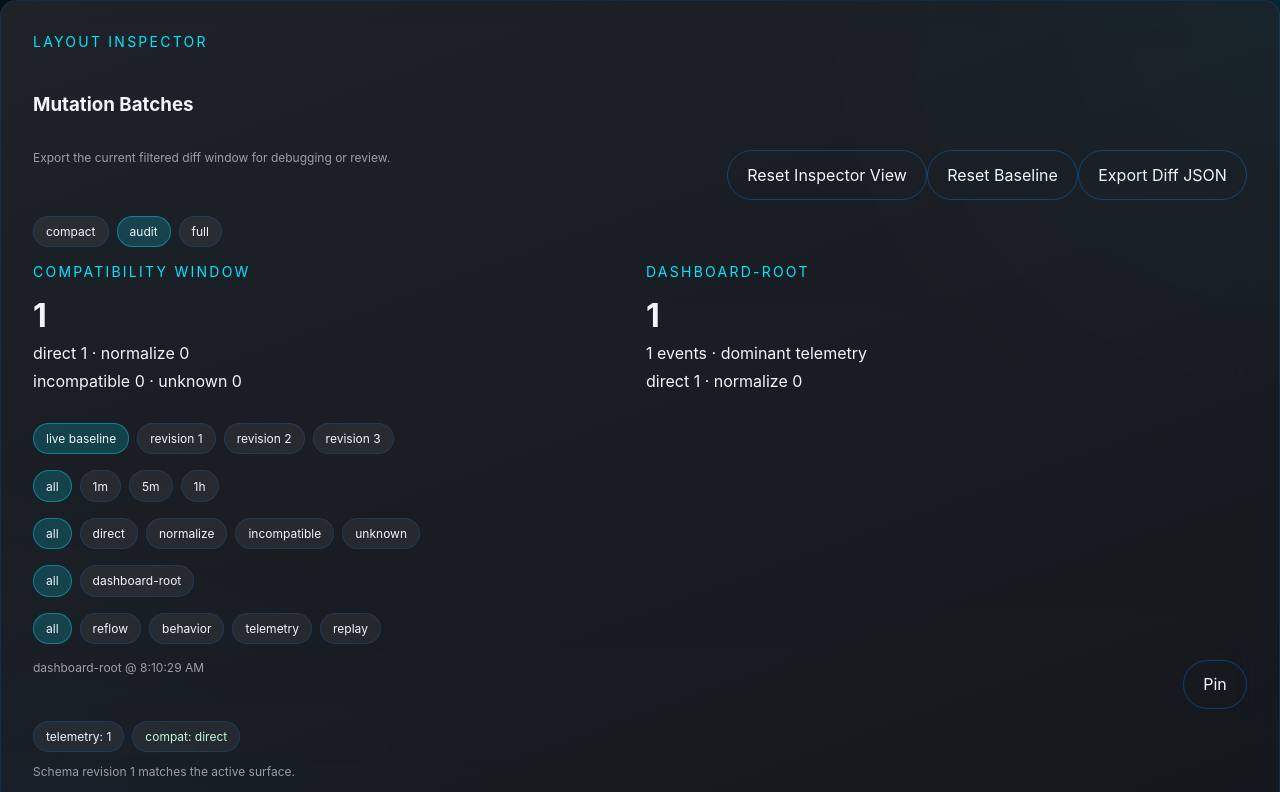
Test: LayoutInspectorPanel › exports the current filtered diff window as JSON
Click the button "compact": (71, 231) [33, 216, 108, 247]
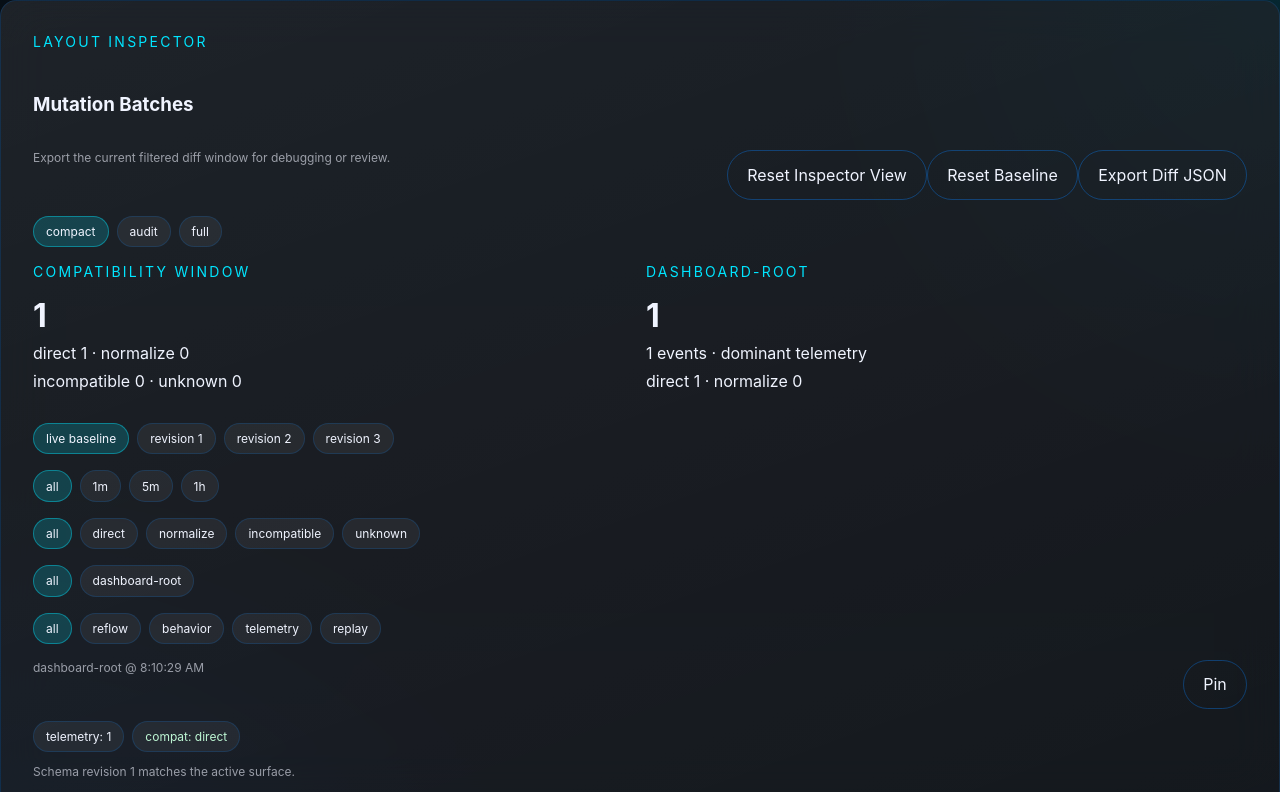
Click the button "Export Diff JSON": (1162, 175) [1078, 150, 1247, 200]
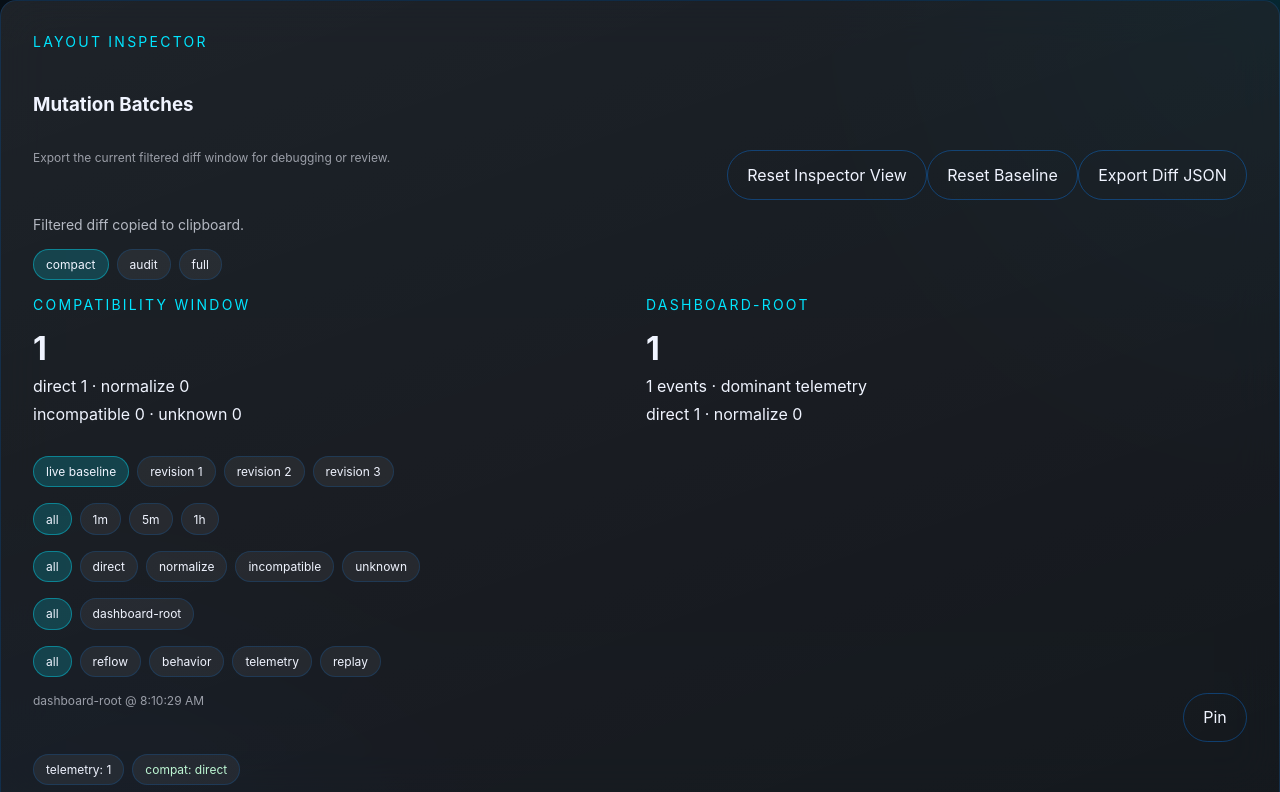
Result: the text "Filtered diff copied to clipboard." is shown at [33, 216, 244, 233]
